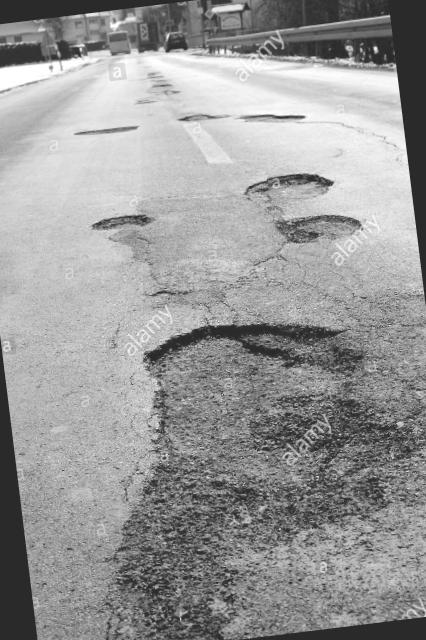Pothole: (59, 294, 426, 640), (264, 199, 394, 269), (244, 157, 348, 217), (85, 195, 170, 246), (241, 98, 326, 142), (127, 60, 189, 110), (76, 118, 152, 147), (181, 102, 232, 136)
